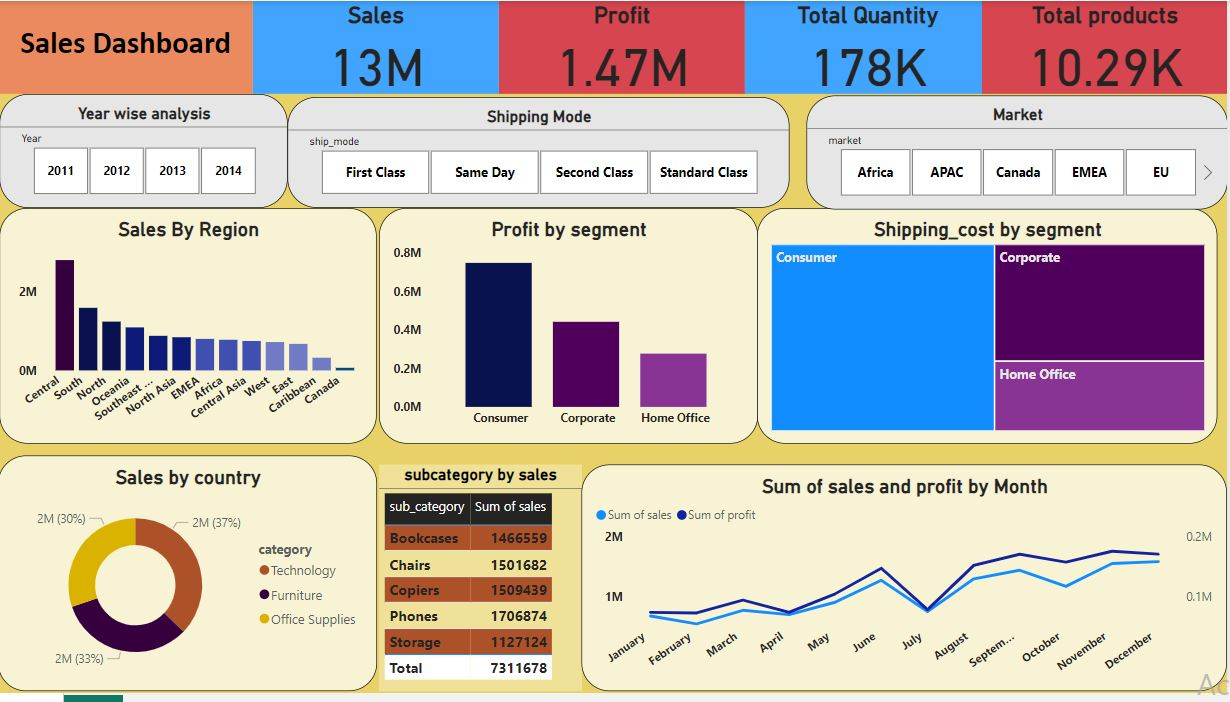

Layout of this report page (visuals, bound fields, positions):
{"tool":"powerbi","page":{"name":"Page 1","canvas":[1280,720],"ordinal":0},"visuals":[{"type":"textbox","box":[0,0,265.5,96.8],"z":0},{"type":"card","title":"Sales","fields":{"Values":["Sum(SuperStoreOrders.sales)"]},"box":[265.5,0,256.1,96.8],"z":1000},{"type":"card","title":"Profit","fields":{"Values":["Sum(SuperStoreOrders.profit)"]},"box":[521.6,0,256.1,96.8],"z":2000},{"type":"card","title":"Total Quantity","fields":{"Values":["Sum(SuperStoreOrders.quantity)"]},"box":[777.8,0,256.1,96.8],"z":3000},{"type":"card","title":"Total products","fields":{"Values":["Count(SuperStoreOrders.product_id)"]},"box":[1024.6,0,256.1,96.8],"z":4000},{"type":"clusteredColumnChart","title":"Sales By Region","fields":{"Category":["SuperStoreOrders.region"],"Y":["Sum(SuperStoreOrders.sales)"]},"box":[1.9,215.2,392.7,245.4],"z":5000},{"type":"columnChart","title":"Profit by segment","fields":{"Category":["SuperStoreOrders.segment"],"Y":["Sum(SuperStoreOrders.profit)"]},"box":[396.5,215.2,394.6,245.4],"z":6000},{"type":"treemap","title":"Shipping_cost by segment","fields":{"Group":["SuperStoreOrders.segment"],"Values":["Sum(SuperStoreOrders.shipping_cost)"]},"box":[791,215.2,479.5,245.4],"z":7000},{"type":"donutChart","title":"Sales by country","fields":{"Category":["SuperStoreOrders.category"],"Y":["Sum(SuperStoreOrders.sales)"]},"box":[0,473.9,394.6,245.4],"z":8000},{"type":"tableEx","title":"subcategory by sales","fields":{"Values":["SuperStoreOrders.sub_category","Sum(SuperStoreOrders.sales)"]},"box":[396.5,483.3,211.4,236],"z":9000},{"type":"lineChart","title":"Sum of sales and profit by Month","fields":{"Category":["SuperStoreOrders.order_date.Variation.Date Hierarchy.Month"],"Y":["Sum(SuperStoreOrders.sales)"],"Y2":["Sum(SuperStoreOrders.profit)"]},"box":[607.9,483.3,672.1,236],"z":10000},{"type":"slicer","title":"Year wise analysis","fields":{"Values":["SuperStoreOrders.order_date.Variation.Date Hierarchy.Year"]},"box":[1.9,96.3,300.2,118.9],"z":11000},{"type":"slicer","title":"Shipping Mode","fields":{"Values":["SuperStoreOrders.ship_mode"]},"box":[302.1,100.1,522.9,115.2],"z":12000},{"type":"slicer","title":"Market","fields":{"Values":["SuperStoreOrders.market"]},"box":[841.8,98.4,438.9,118.7],"z":13000}]}

Visuals, with their boxes in screenshot pixels (x1, y1, x2, y2), scaled from the page's 1280x720 canvas onto the 1230x702 screenshot:
textbox: 0, 0, 255, 94
"Sales" card: 255, 0, 501, 94
"Profit" card: 501, 0, 747, 94
"Total Quantity" card: 747, 0, 994, 94
"Total products" card: 985, 0, 1229, 94
"Sales By Region" clusteredColumnChart: 2, 210, 379, 449
"Profit by segment" columnChart: 381, 210, 760, 449
"Shipping_cost by segment" treemap: 760, 210, 1221, 449
"Sales by country" donutChart: 0, 462, 379, 701
"subcategory by sales" tableEx: 381, 471, 584, 701
"Sum of sales and profit by Month" lineChart: 584, 471, 1229, 701
"Year wise analysis" slicer: 2, 94, 290, 210
"Shipping Mode" slicer: 290, 98, 793, 210
"Market" slicer: 809, 96, 1229, 212
